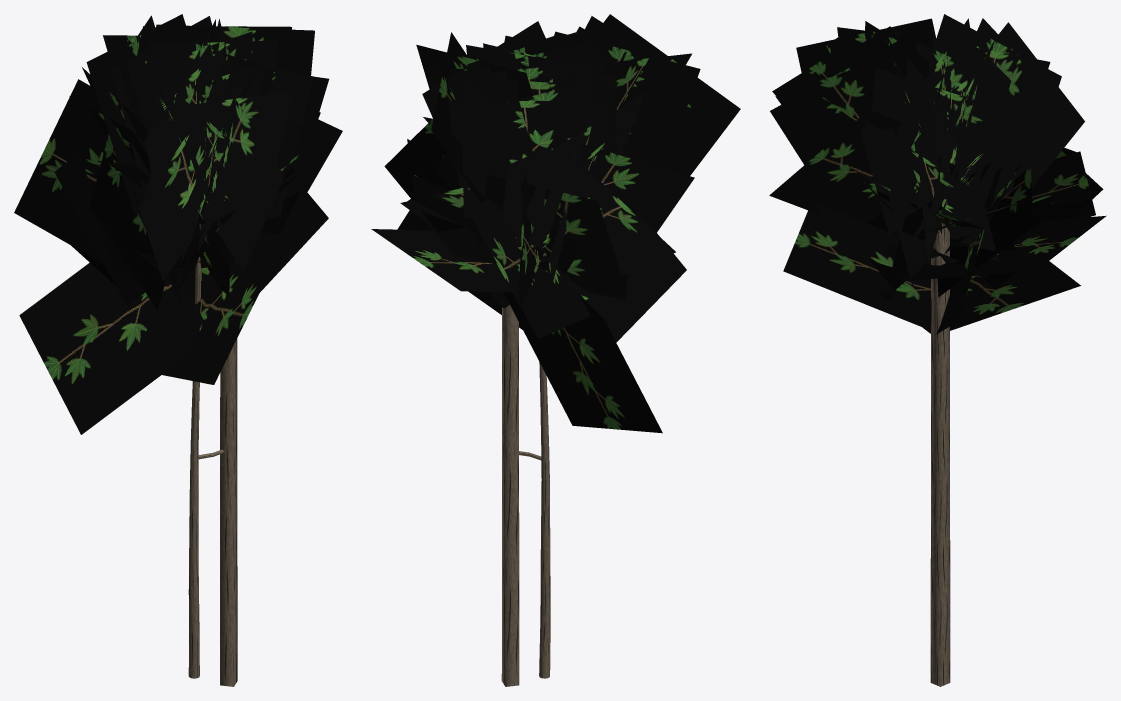
File: ipe_amarelo_2anos.glb
The picture shows the model from 3 angles, left to right: view 1: azimuth 30°, elevation 25°; view 2: azimuth 150°, elevation 25°; view 3: azimuth 270°, elevation 25°; orthographic projection. The views are drawn at different scales.
Visible parts, largest first — view 1: Ipe_amarelo; view 2: Ipe_amarelo; view 3: Ipe_amarelo.
Part boxes in pixels (x1,y1,x2,y2): Ipe_amarelo: [14, 14, 342, 686]; Ipe_amarelo: [371, 14, 740, 686]; Ipe_amarelo: [769, 14, 1106, 686].
Bounding box in the file's own units: 0.599 × 1.25 × 0.6062.
2 materials, 2 textured.
